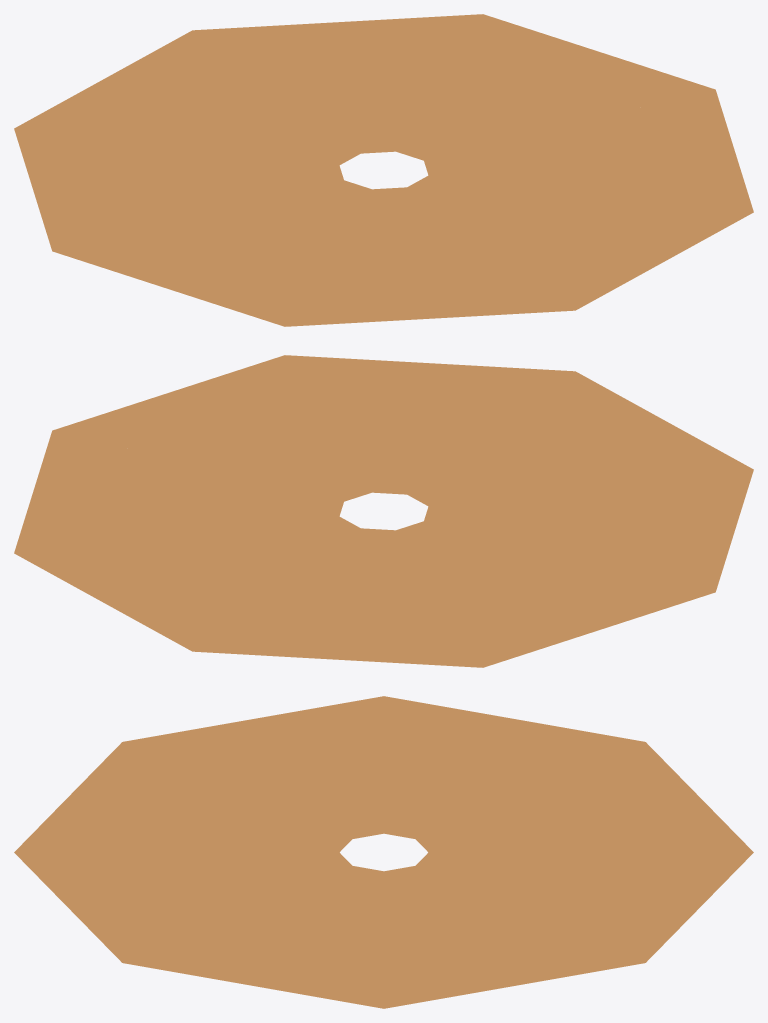
The model's file is Road 5.fbx.
3 views of the same model, one above another, from view 1: azimuth 30°, elevation 25°; view 2: azimuth 150°, elevation 25°; view 3: azimuth 270°, elevation 25° (orthographic). The views are drawn at different scales.
Parts seen in each view (by area): view 1: Road_5; view 2: Road_5; view 3: Road_5.
Boxes of the visible parts, x1=… form: Road_5: x1=14, y1=14, x2=753, y2=326; Road_5: x1=14, y1=355, x2=753, y2=667; Road_5: x1=14, y1=696, x2=753, y2=1008.
Bounding box in the file's own units: 2.27 × 2e-15 × 2.27.
